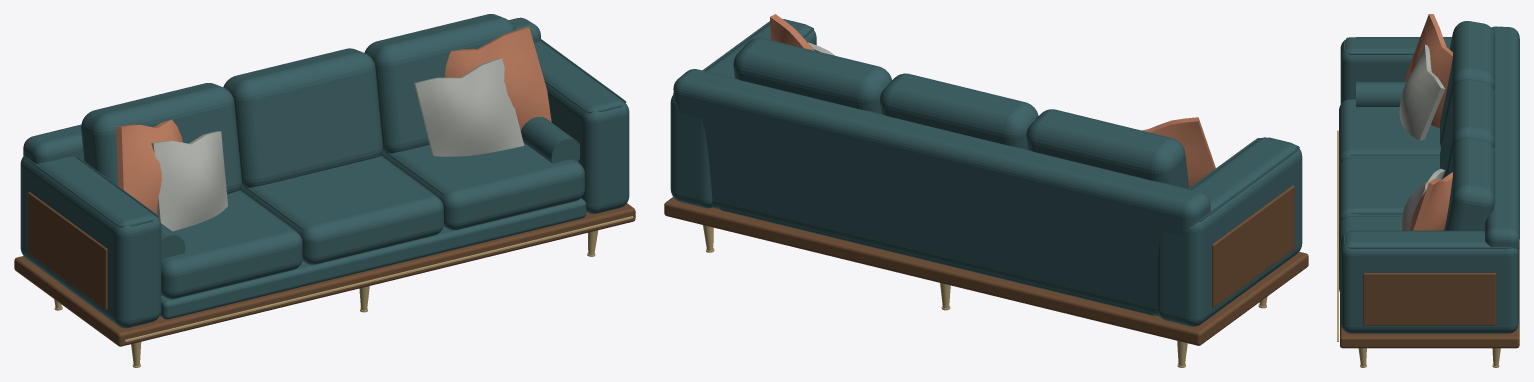
Rendered from milano-teal-3.glb.
3 views of the same model, side by side, from view 1: azimuth 30°, elevation 25°; view 2: azimuth 150°, elevation 25°; view 3: azimuth 270°, elevation 25° (orthographic). The views are drawn at different scales.
Bounding box in the file's own units: 2.2 × 0.8344 × 0.7932.
